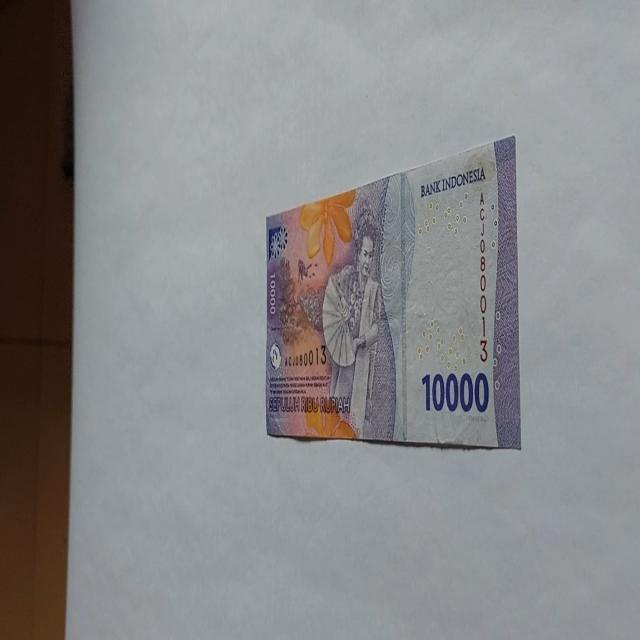sepuluh ribu rupiah: (264, 133, 520, 450), (321, 218, 397, 440), (418, 164, 486, 198)
